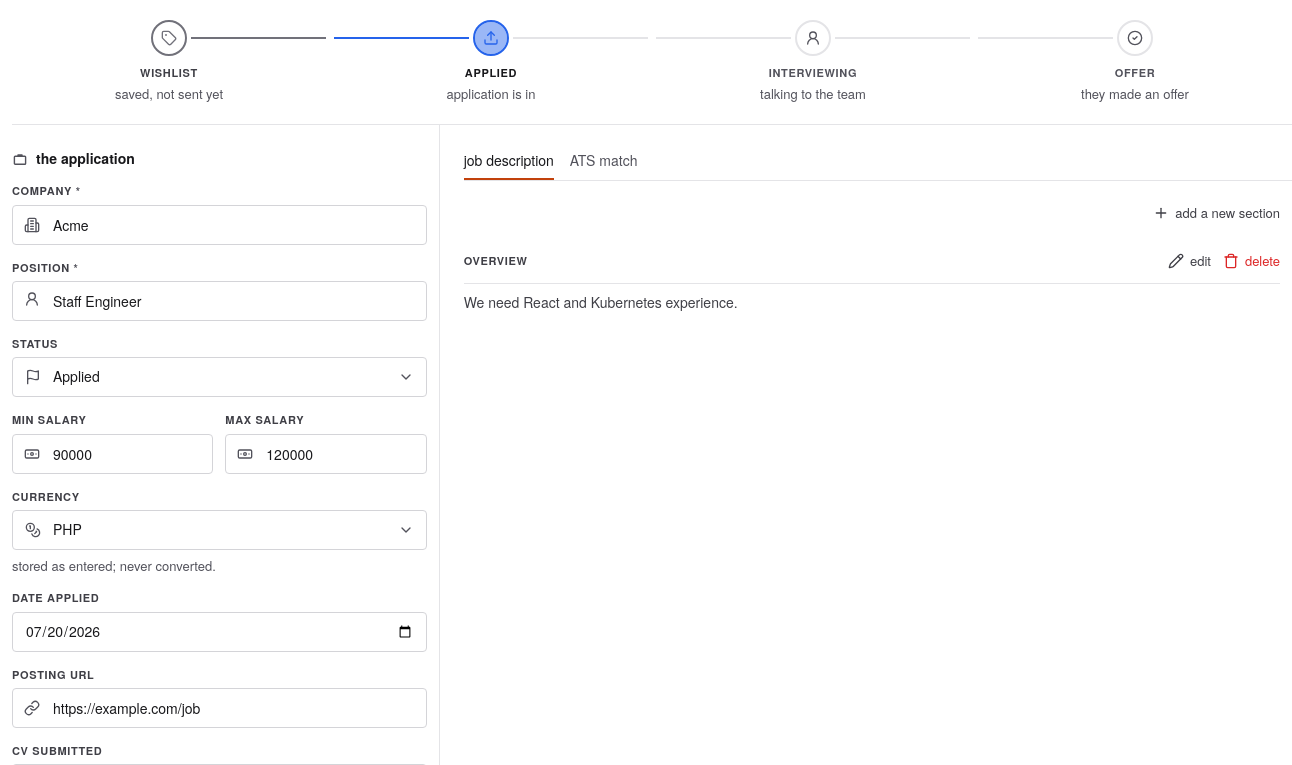
Test: ApplicationRecordView › keeps a failed ATS read distinct from having nothing to compare
What coordinates should you click on to do the following:
click the tab "ATS match"
I would click on:
 (604, 164)
Its box is [570,148,638,180].
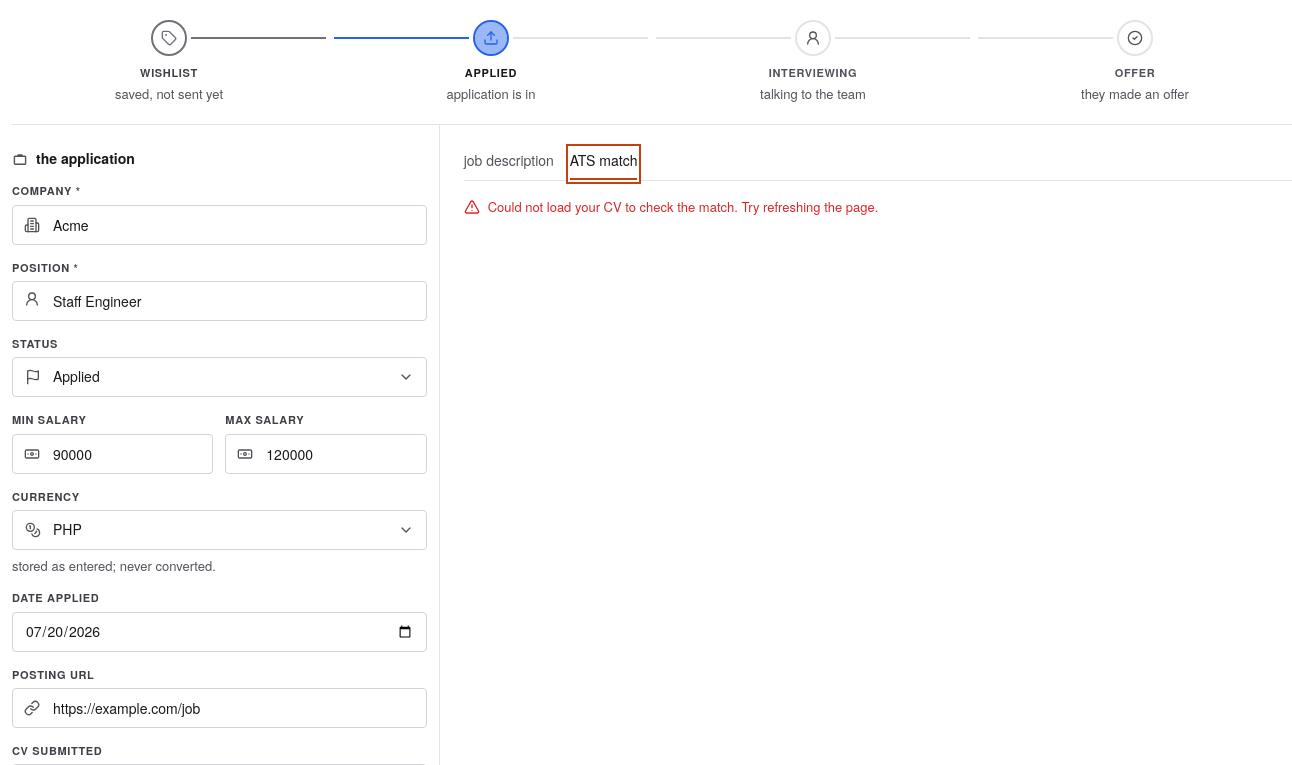
Expected: the text "Could not load your CV" is shown, [488,197,878,216]
